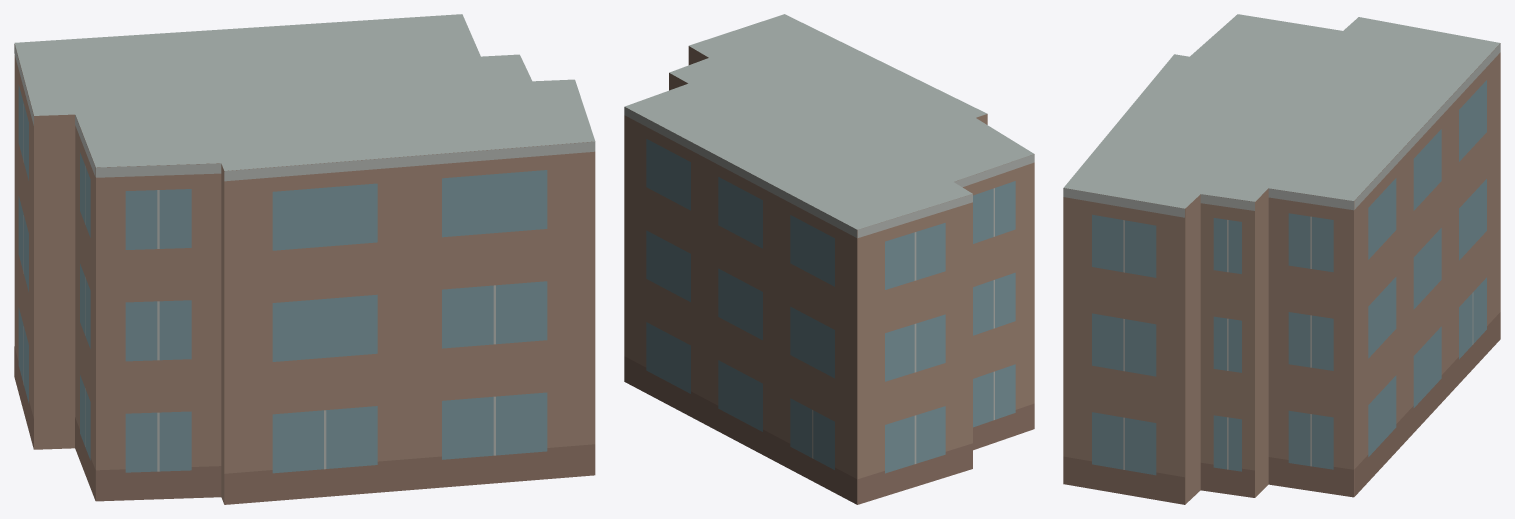
File: survey-upis-32490957.glb
The picture shows the model from 3 angles, left to right: view 1: azimuth 30°, elevation 25°; view 2: azimuth 150°, elevation 25°; view 3: azimuth 270°, elevation 25°; orthographic projection. The views are drawn at different scales.
Parts seen in each view (by area): view 1: survey-upis-32490957.tmp; view 2: survey-upis-32490957.tmp; view 3: survey-upis-32490957.tmp.
Boxes of the visible parts, box(x1,y1,x2,y2) form: survey-upis-32490957.tmp: box(14, 14, 595, 504); survey-upis-32490957.tmp: box(624, 14, 1034, 504); survey-upis-32490957.tmp: box(1063, 14, 1500, 504).
Size of the model in its own units: 11.15 by 7.9 by 10.58.
